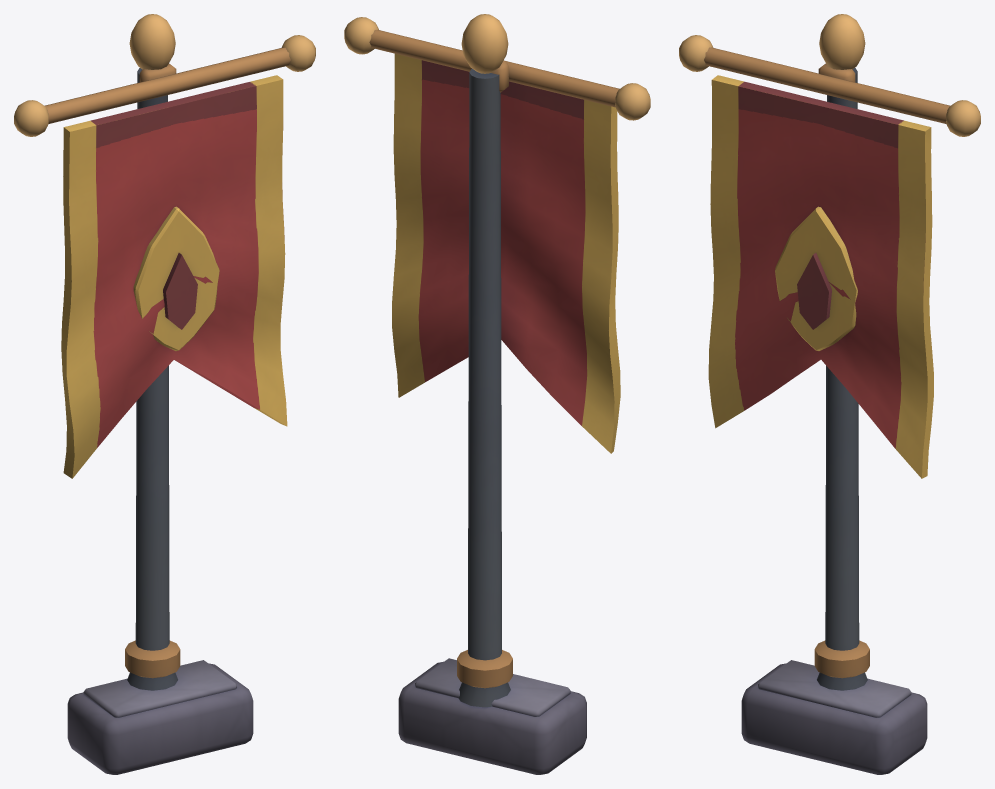
The model's file is EF_P10_FortressBanner.fbx.
3 renders of one model, left to right at view 1: azimuth 30°, elevation 25°; view 2: azimuth 150°, elevation 25°; view 3: azimuth 330°, elevation 25°, orthographic.
Visible parts, largest first — view 1: Cloth, Pole, Bar; view 2: Cloth, Pole, Bar; view 3: Cloth, Pole, Bar.
Boxes of the visible parts, x1=… form: Cloth: x1=61, y1=75, x2=287, y2=478; Pole: x1=67, y1=14, x2=253, y2=774; Bar: x1=14, y1=35, x2=315, y2=136; Cloth: x1=392, y1=53, x2=620, y2=453; Pole: x1=398, y1=14, x2=586, y2=774; Bar: x1=344, y1=17, x2=650, y2=120; Cloth: x1=708, y1=75, x2=933, y2=478; Pole: x1=741, y1=14, x2=927, y2=774; Bar: x1=679, y1=35, x2=980, y2=136.
Bounding box in the file's own units: 1.11 × 2.6 × 0.3.
